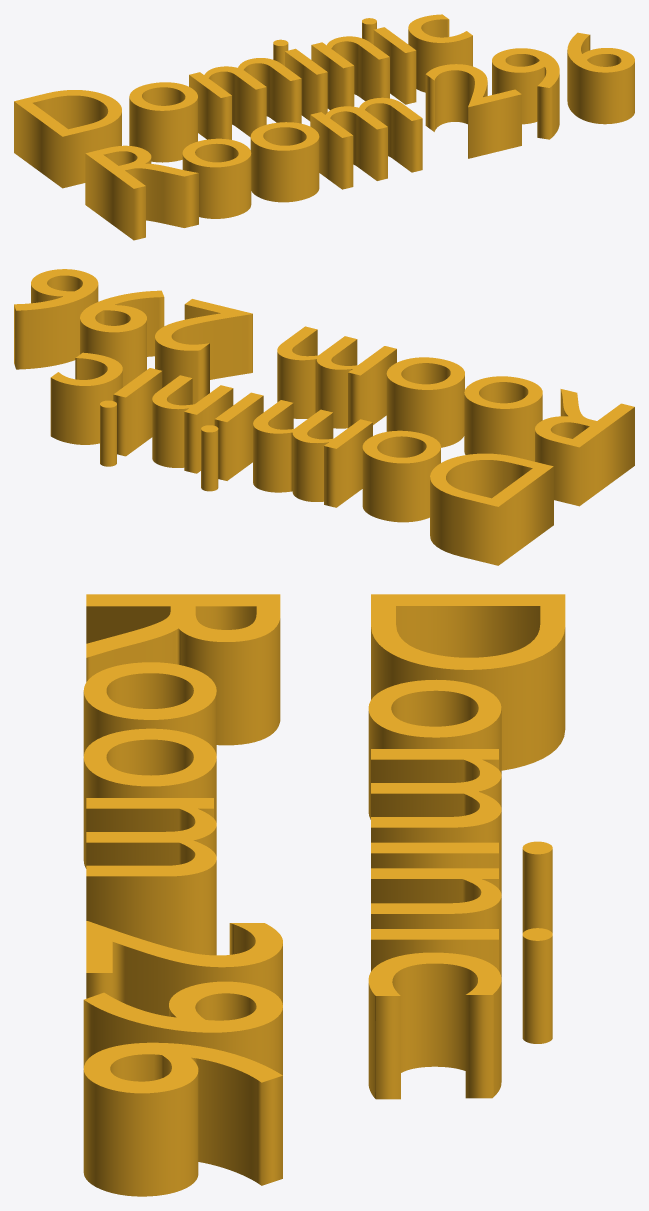
The model's file is dominic-296.gltf.
The picture shows the model from 3 angles, top to bottom: view 1: azimuth 30°, elevation 25°; view 2: azimuth 150°, elevation 25°; view 3: azimuth 270°, elevation 25°; orthographic projection. The views are drawn at different scales.
Visible parts, largest first — view 1: Text; view 2: Text; view 3: Text.
Boxes of the visible parts, x1,y1,x2,y2 form: Text: (14,14,634,240); Text: (14,269,634,565); Text: (83,594,565,1196).
Bounding box in the file's own units: 4.15 × 0.4 × 1.69.
